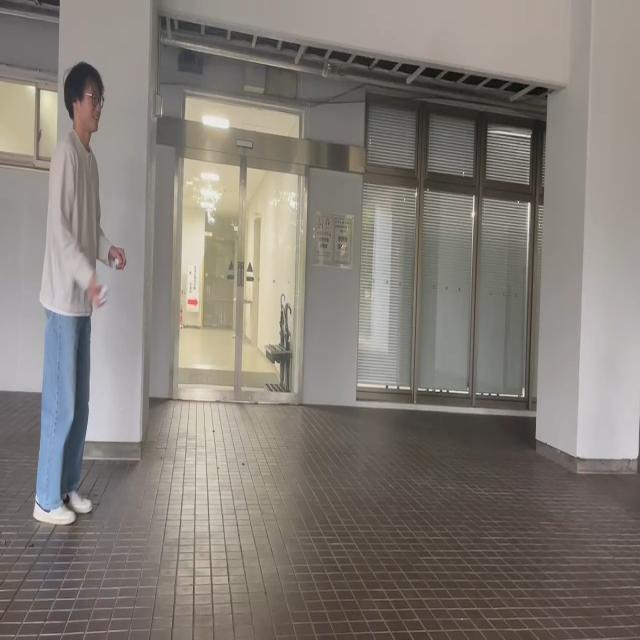paper: (111, 257, 119, 270)
